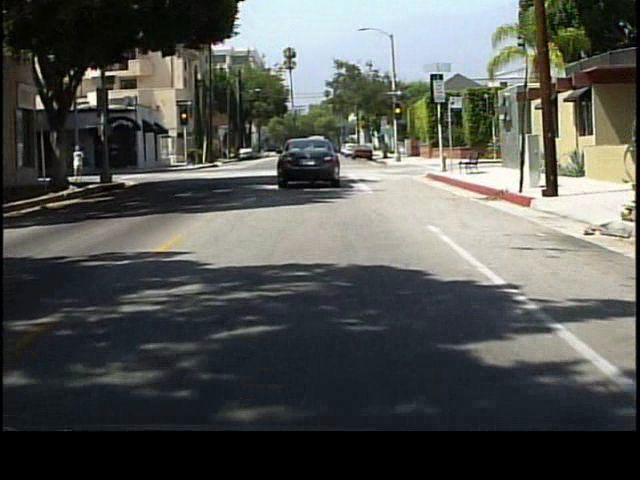person: (71, 143, 88, 187)
